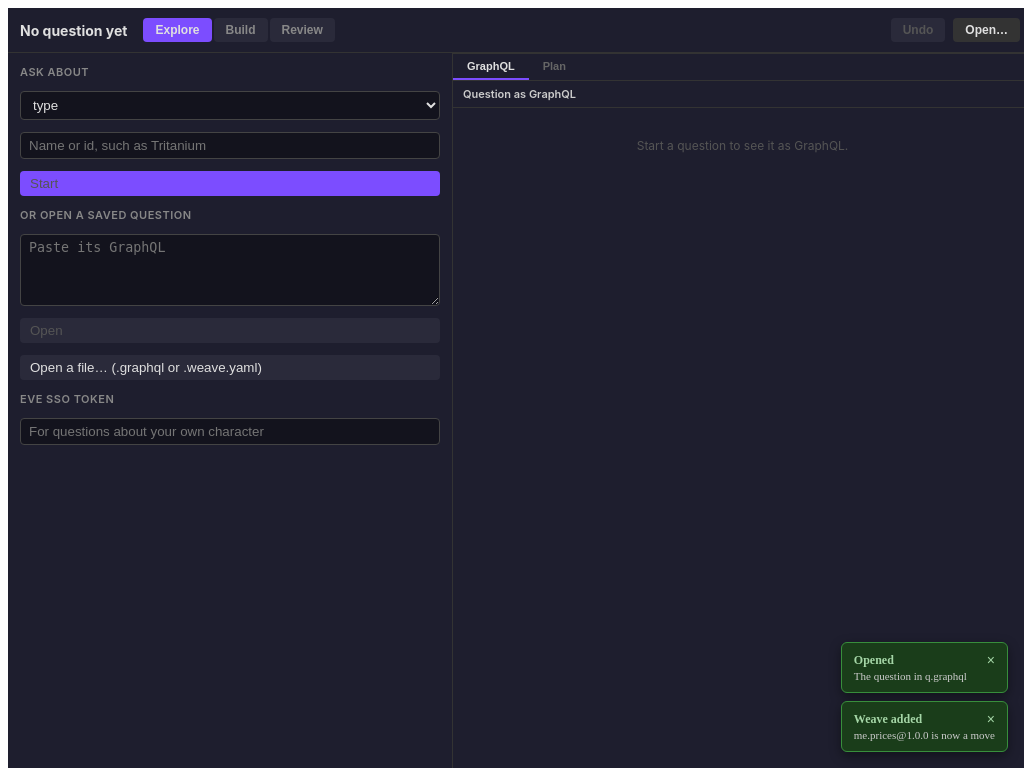
it: App › refuses a file that is neither
The width and height of the screenshot is (1024, 768).
Click the button "Open…" at (987, 30), box [953,18,1020,42]
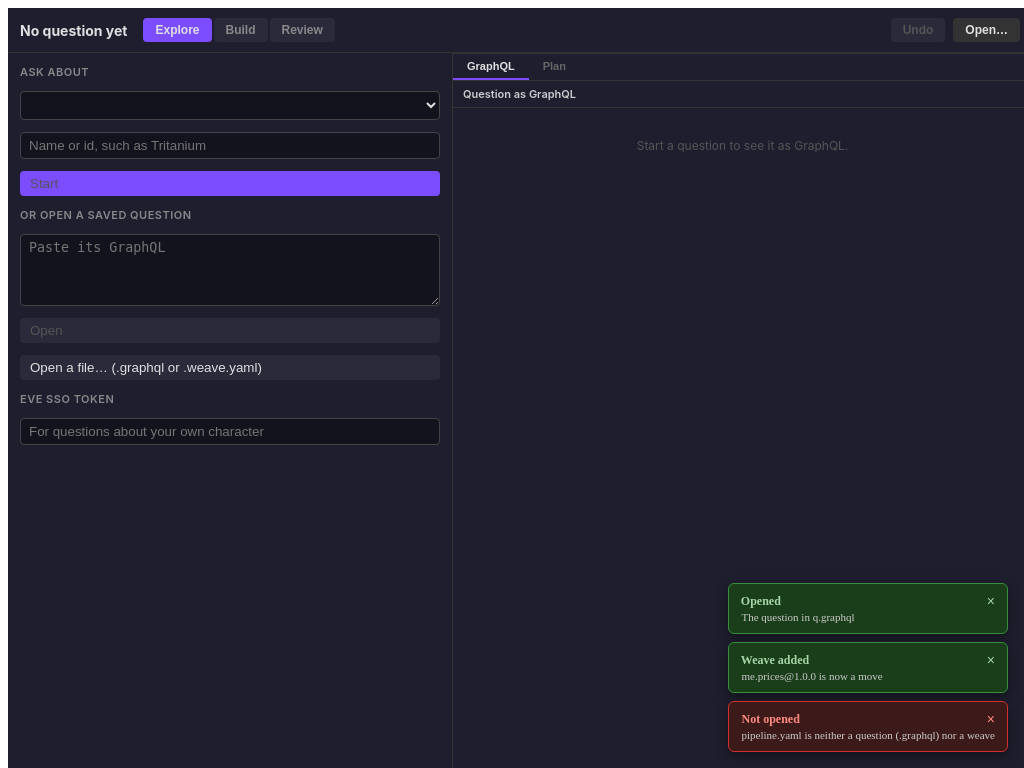
Result: the text "pipeline.yaml is neither a question (.graphql) nor a weave" is shown at [742,729,995,741]
